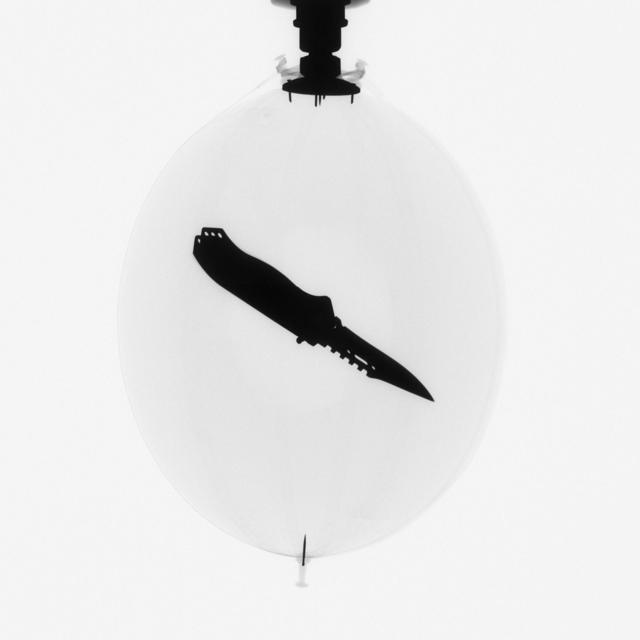knife: (197, 216, 439, 408)
